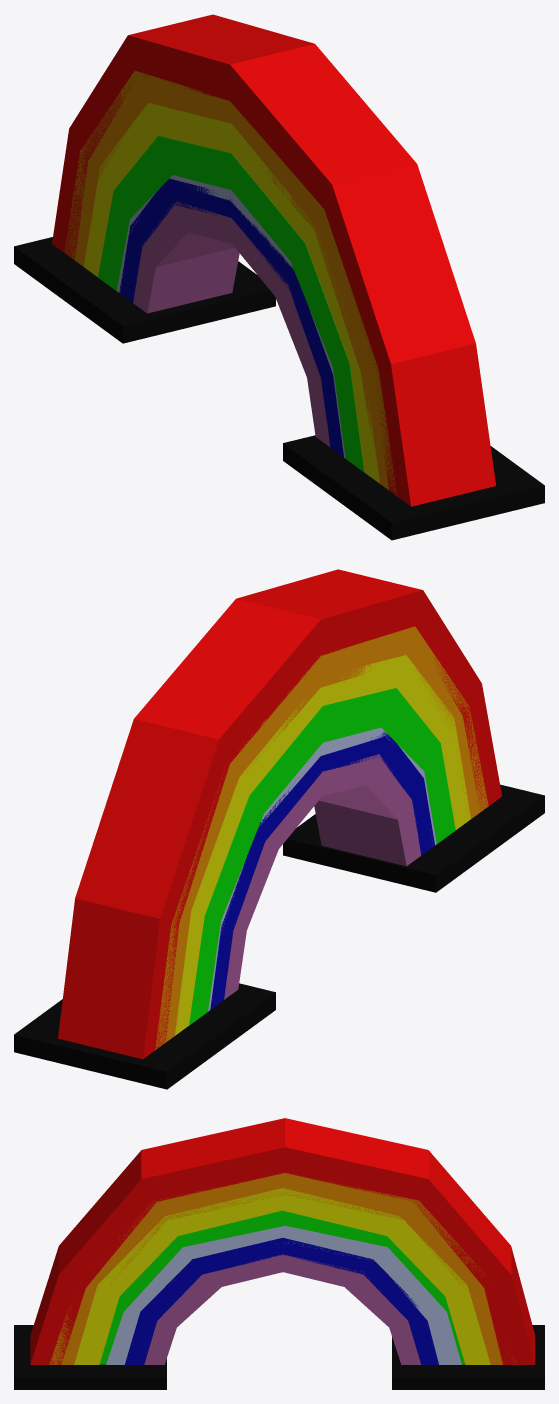
Rendered from Rainbow.fbx.
3 views of the same model, one above another, from view 1: azimuth 30°, elevation 25°; view 2: azimuth 150°, elevation 25°; view 3: azimuth 270°, elevation 25° (orthographic). The views are drawn at different scales.
Visible parts, largest first — view 1: pasted__pPipe1, pasted__pasted__pPipe3, pPipe1, pasted__pPipe2, pasted__pasted__pPipe1, pCube1, pasted__pCube1, pasted__pasted__pasted__pPipe1, pasted__pasted__pPipe2; view 2: pasted__pPipe1, pasted__pasted__pPipe3, pPipe1, pasted__pPipe2, pasted__pasted__pPipe1, pasted__pCube1, pCube1, pasted__pasted__pasted__pPipe1, pasted__pasted__pPipe2; view 3: pasted__pPipe1, pasted__pasted__pPipe1, pasted__pasted__pPipe3, pasted__pasted__pPipe2, pasted__pasted__pasted__pPipe1, pasted__pPipe2, pPipe1, pCube1, pasted__pCube1.
Part boxes in pixels (x1=…): pasted__pPipe1: x1=52, y1=14, x2=496, y2=506; pasted__pasted__pPipe3: x1=64, y1=70, x2=397, y2=496; pPipe1: x1=98, y1=136, x2=364, y2=472; pasted__pPipe2: x1=133, y1=202, x2=329, y2=446; pasted__pasted__pPipe1: x1=83, y1=103, x2=379, y2=483; pCube1: x1=283, y1=435, x2=544, y2=540; pasted__pCube1: x1=14, y1=237, x2=275, y2=343; pasted__pasted__pasted__pPipe1: x1=119, y1=178, x2=343, y2=457; pasted__pasted__pPipe2: x1=117, y1=175, x2=345, y2=458; pasted__pPipe1: x1=58, y1=569, x2=501, y2=1059; pasted__pasted__pPipe3: x1=155, y1=626, x2=488, y2=1049; pPipe1: x1=189, y1=688, x2=455, y2=1025; pasted__pPipe2: x1=224, y1=754, x2=420, y2=999; pasted__pasted__pPipe1: x1=174, y1=655, x2=470, y2=1035; pasted__pCube1: x1=14, y1=983, x2=275, y2=1089; pCube1: x1=283, y1=784, x2=544, y2=892; pasted__pasted__pasted__pPipe1: x1=210, y1=731, x2=434, y2=1009; pasted__pasted__pPipe2: x1=208, y1=727, x2=436, y2=1011; pasted__pPipe1: x1=30, y1=1118, x2=535, y2=1364; pasted__pasted__pPipe1: x1=74, y1=1188, x2=490, y2=1364; pasted__pasted__pPipe3: x1=49, y1=1173, x2=516, y2=1364; pasted__pasted__pPipe2: x1=106, y1=1225, x2=461, y2=1364; pasted__pasted__pasted__pPipe1: x1=124, y1=1237, x2=438, y2=1364; pasted__pPipe2: x1=144, y1=1254, x2=420, y2=1364; pPipe1: x1=99, y1=1210, x2=465, y2=1364; pCube1: x1=14, y1=1325, x2=166, y2=1389; pasted__pCube1: x1=392, y1=1325, x2=544, y2=1389.
Size of the model in its own units: 15.87 by 32.78 by 67.79.
